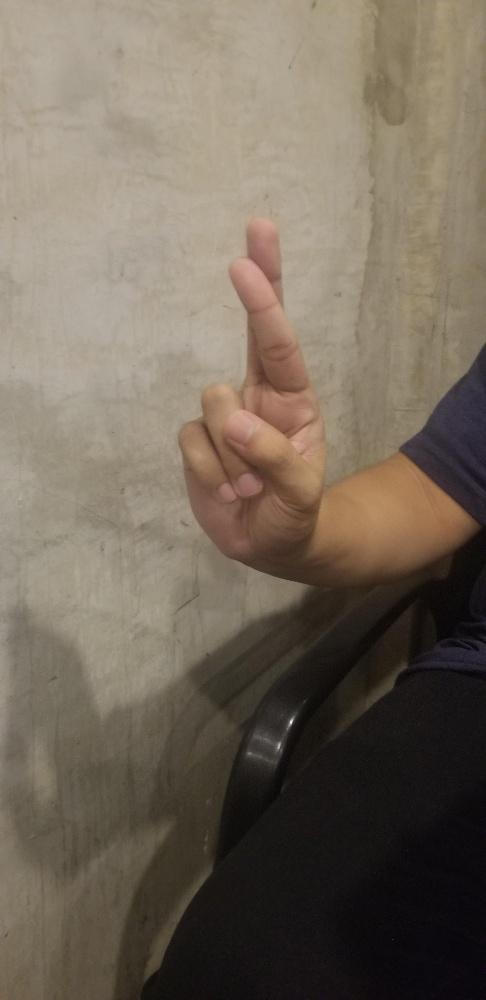r: (176, 219, 325, 565)
